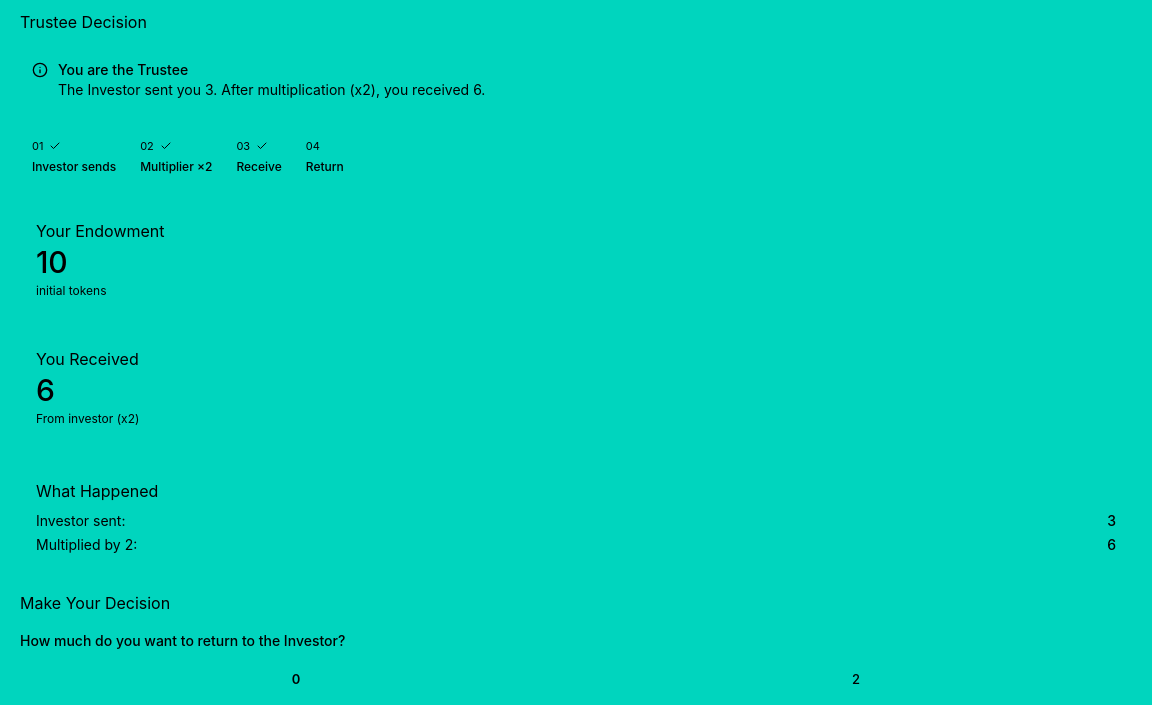
Test: TrusteeInterface › surfaces the error message when submission fails
Click the button "2" at (856, 680), box [580, 662, 1132, 696]
(page scrolled)
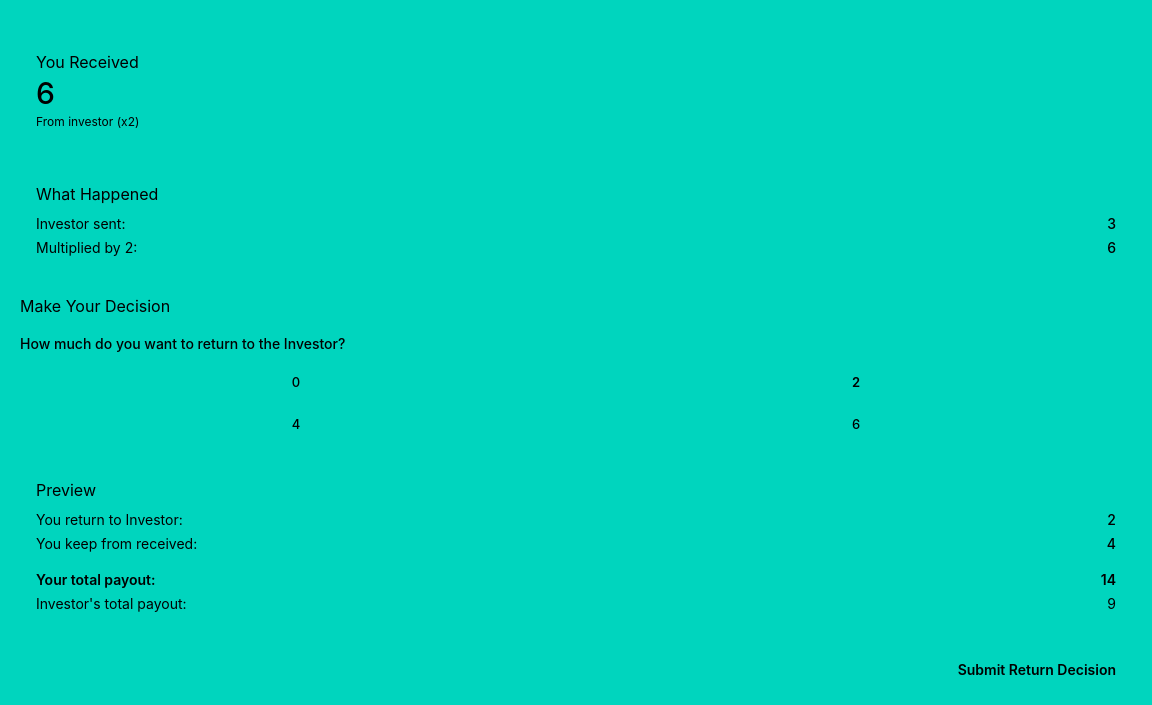
Click the button "Submit Return Decision" at (1037, 670), box [942, 650, 1132, 690]
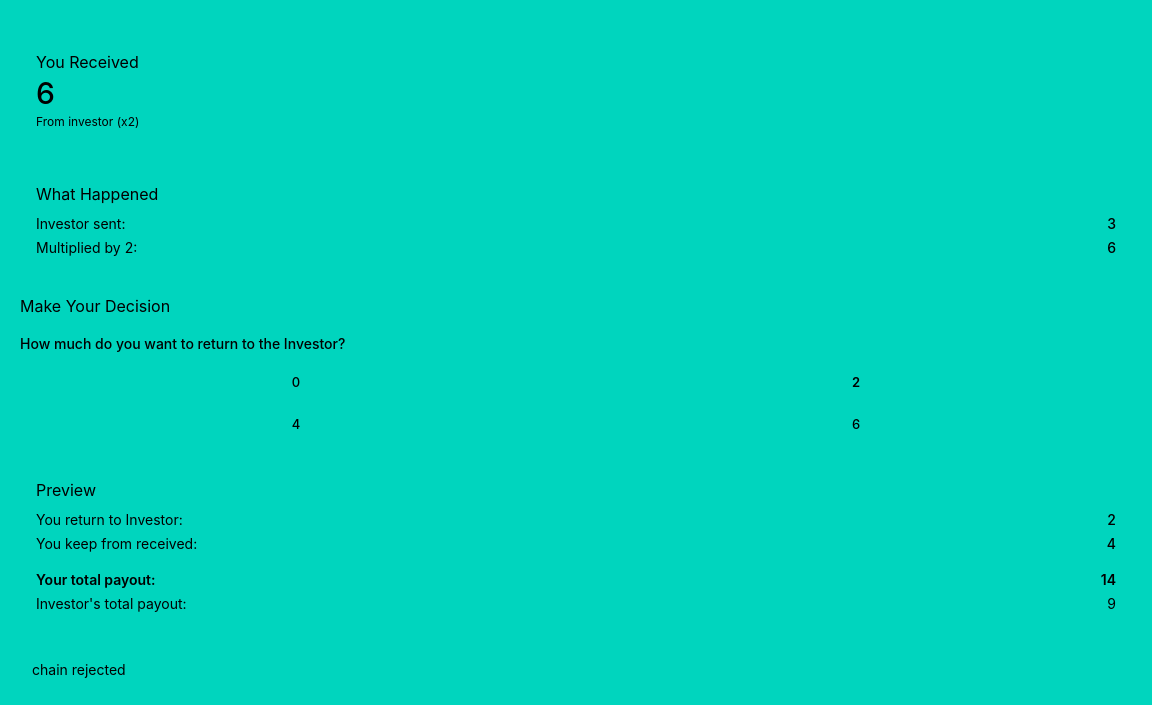
expect the text "chain rejected" is shown: met, box [32, 660, 126, 678]
